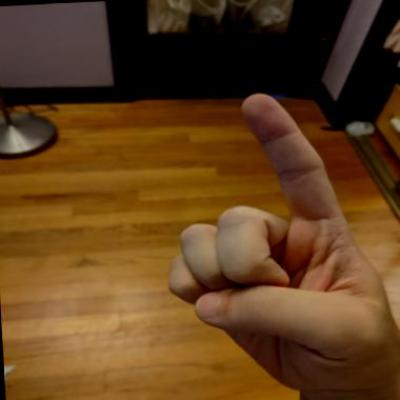hand: (149, 83, 399, 399)
